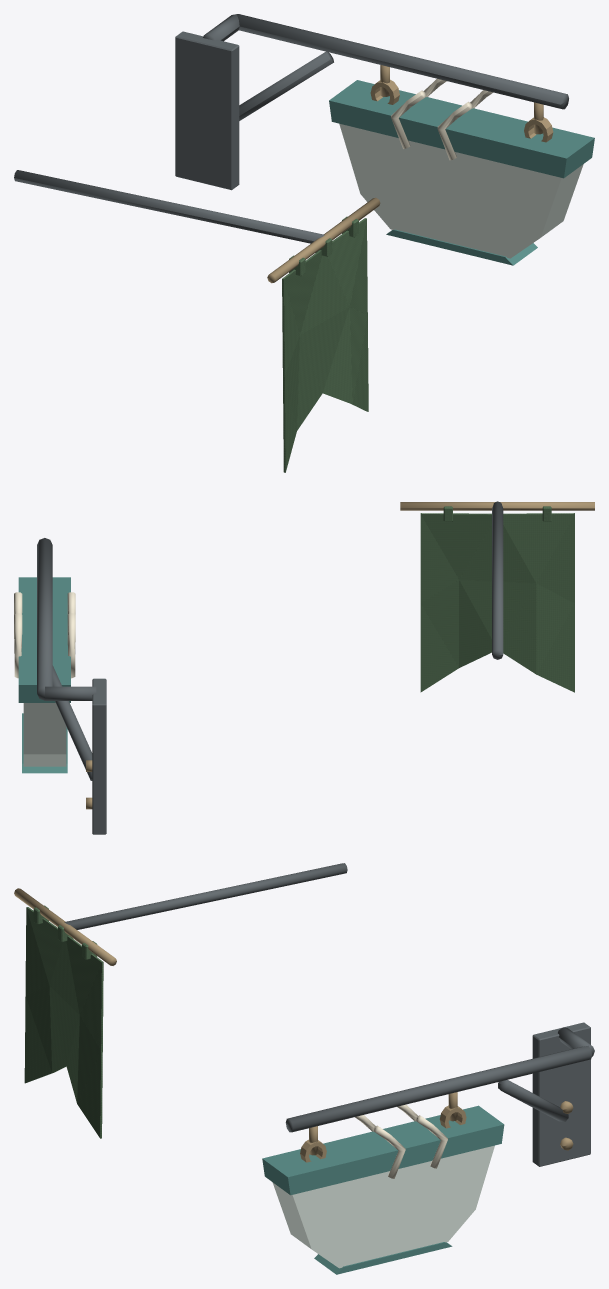
File: yokocho-noodle-guild-sign.glb
The picture shows the model from 3 angles, top to bottom: view 1: azimuth 30°, elevation 25°; view 2: azimuth 150°, elevation 25°; view 3: azimuth 270°, elevation 25°; orthographic projection. The views are drawn at different scales.
Parts seen in each view (by area): view 1: Shops/S02/ProjectingSigns/NoodleGuildAssembly__Iron, Shops/S02/ProjectingSigns/NoodleGuildAssembly__Food_Enamel, Shops/S02/ProjectingSigns/NoodleGuildAssembly__Noren3, Shops/S02/ProjectingSigns/NoodleGuildAssembly__Food_TileGree, Shops/S02/ProjectingSigns/NoodleGuildAssembly__Bronze, Shops/S02/ProjectingSigns/NoodleGuildAssembly__Food_TileCrea; view 2: Shops/S02/ProjectingSigns/NoodleGuildAssembly__Noren3, Shops/S02/ProjectingSigns/NoodleGuildAssembly__Iron, Shops/S02/ProjectingSigns/NoodleGuildAssembly__Food_TileGree, Shops/S02/ProjectingSigns/NoodleGuildAssembly__Food_Enamel, Shops/S02/ProjectingSigns/NoodleGuildAssembly__Bronze, Shops/S02/ProjectingSigns/NoodleGuildAssembly__Food_TileCrea; view 3: Shops/S02/ProjectingSigns/NoodleGuildAssembly__Iron, Shops/S02/ProjectingSigns/NoodleGuildAssembly__Food_Enamel, Shops/S02/ProjectingSigns/NoodleGuildAssembly__Noren3, Shops/S02/ProjectingSigns/NoodleGuildAssembly__Food_TileGree, Shops/S02/ProjectingSigns/NoodleGuildAssembly__Bronze, Shops/S02/ProjectingSigns/NoodleGuildAssembly__Food_TileCrea.
Boxes of the visible parts, x1,y1,x2,y2 form: Shops/S02/ProjectingSigns/NoodleGuildAssembly__Iron: (14,14,568,243); Shops/S02/ProjectingSigns/NoodleGuildAssembly__Food_Enamel: (339,123,583,258); Shops/S02/ProjectingSigns/NoodleGuildAssembly__Noren3: (282,216,368,472); Shops/S02/ProjectingSigns/NoodleGuildAssembly__Food_TileGree: (329,80,594,265); Shops/S02/ProjectingSigns/NoodleGuildAssembly__Bronze: (267,65,553,283); Shops/S02/ProjectingSigns/NoodleGuildAssembly__Food_TileCrea: (391,78,493,160); Shops/S02/ProjectingSigns/NoodleGuildAssembly__Noren3: (420,506,574,692); Shops/S02/ProjectingSigns/NoodleGuildAssembly__Iron: (37,501,503,834); Shops/S02/ProjectingSigns/NoodleGuildAssembly__Food_TileGree: (18,577,70,773); Shops/S02/ProjectingSigns/NoodleGuildAssembly__Food_Enamel: (23,703,66,766); Shops/S02/ProjectingSigns/NoodleGuildAssembly__Bronze: (86,502,594,809); Shops/S02/ProjectingSigns/NoodleGuildAssembly__Food_TileCrea: (14,592,75,678); Shops/S02/ProjectingSigns/NoodleGuildAssembly__Iron: (64,863,594,1166); Shops/S02/ProjectingSigns/NoodleGuildAssembly__Food_Enamel: (272,1145,494,1268); Shops/S02/ProjectingSigns/NoodleGuildAssembly__Noren3: (24,905,103,1138); Shops/S02/ProjectingSigns/NoodleGuildAssembly__Food_TileGree: (262,1105,504,1274); Shops/S02/ProjectingSigns/NoodleGuildAssembly__Bronze: (14,888,573,1162); Shops/S02/ProjectingSigns/NoodleGuildAssembly__Food_TileCrea: (355,1104,447,1178).
Size of the model in its own units: 1.15 by 0.419 by 1.15.
Materials: 6 (1 with a texture image).
